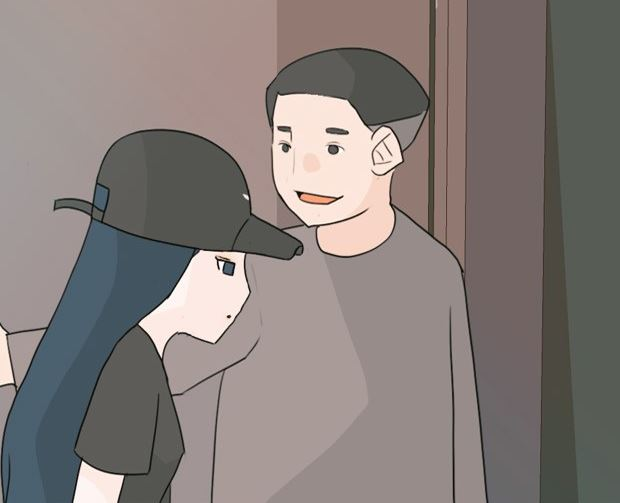hat: (82, 126, 307, 267)
